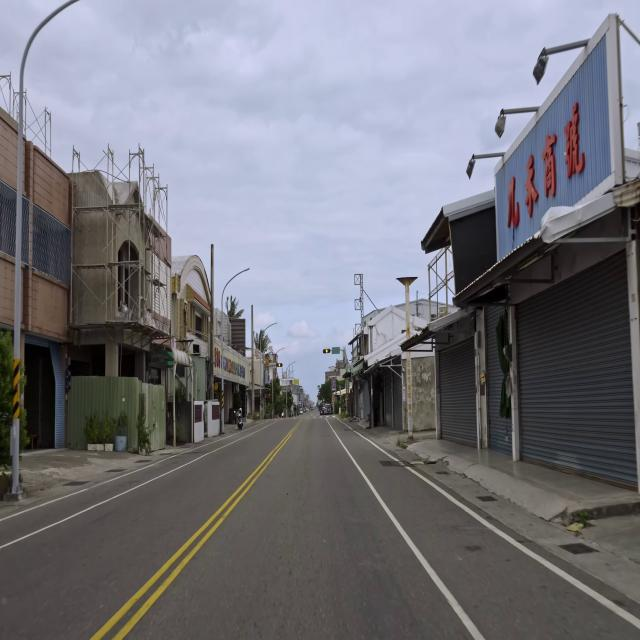yellow light: (322, 349, 330, 353), (276, 363, 282, 367)
